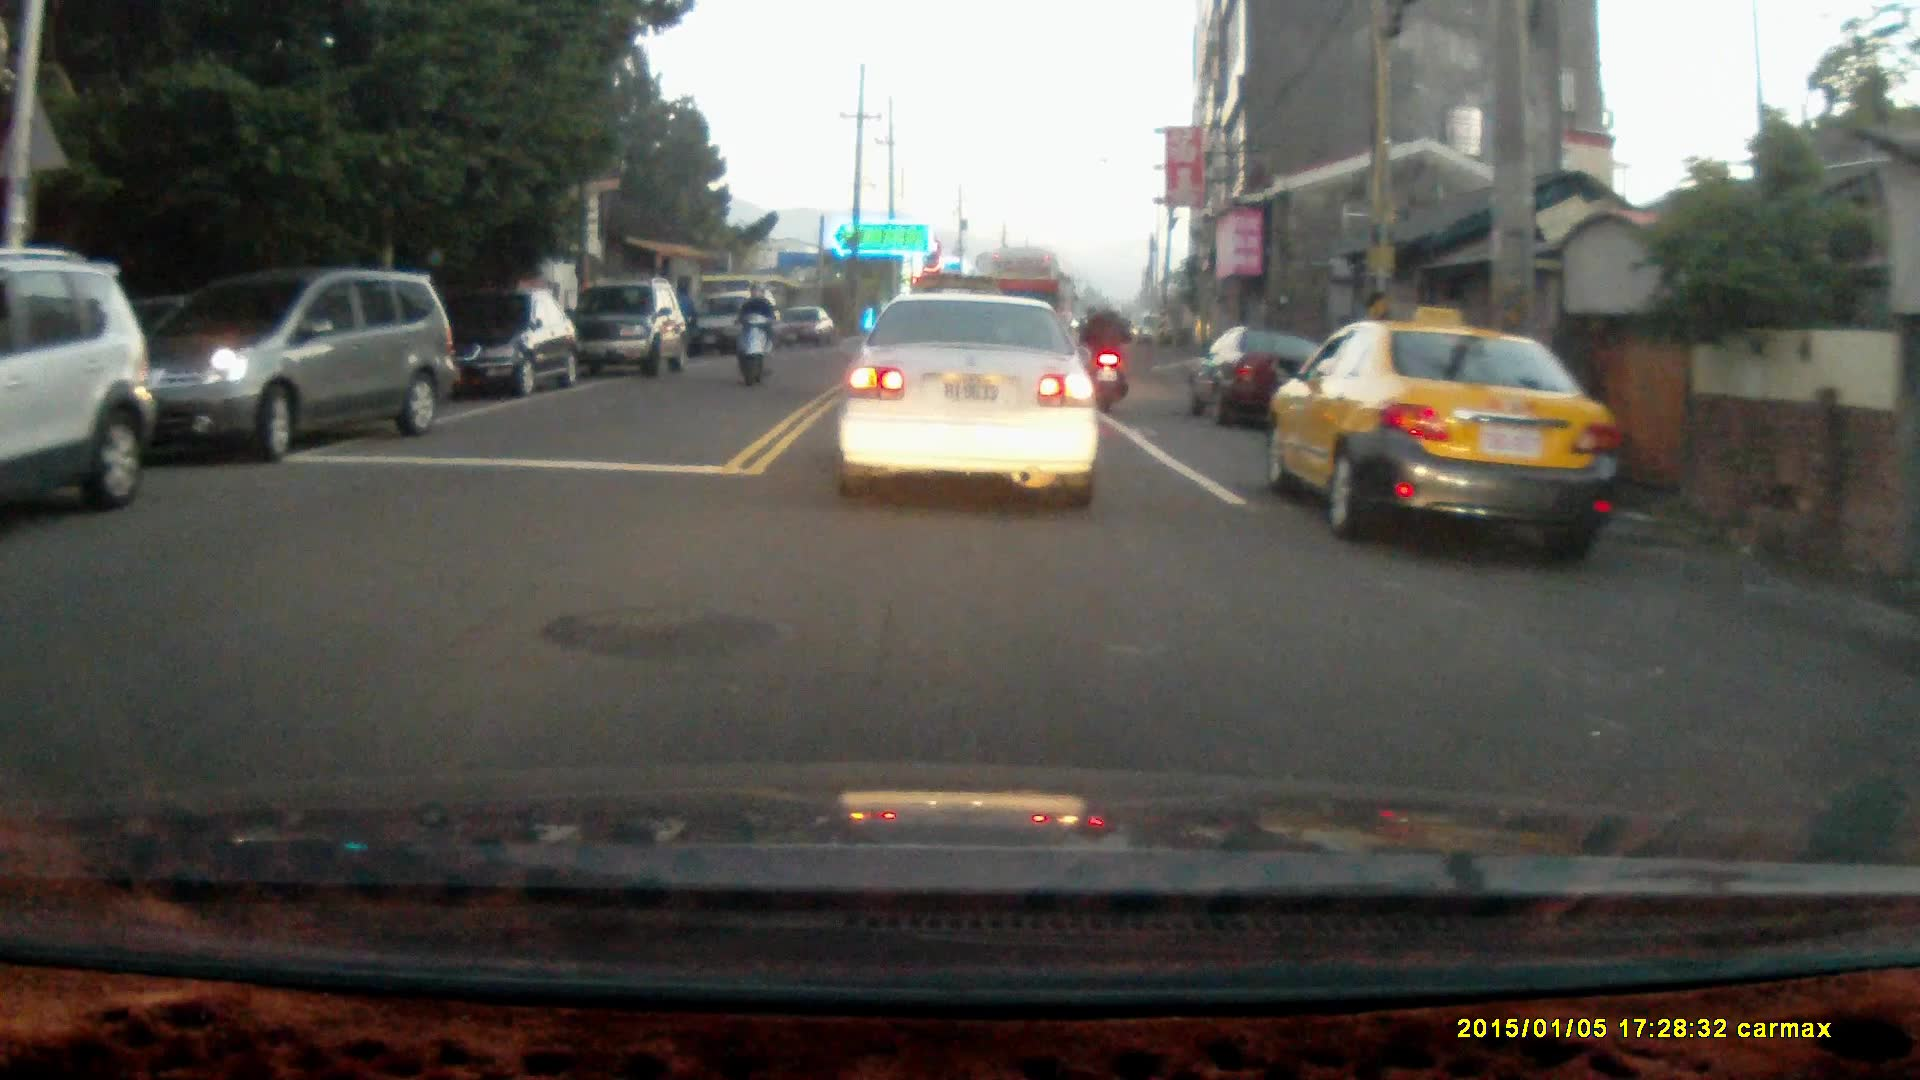rider: (1077, 291, 1135, 417), (730, 280, 773, 389)
vehicle: (1268, 320, 1619, 559), (121, 275, 457, 473), (836, 283, 1113, 503), (1, 243, 148, 535), (437, 288, 578, 401), (1199, 319, 1324, 426), (571, 285, 689, 380), (692, 291, 773, 356), (779, 304, 835, 349)
